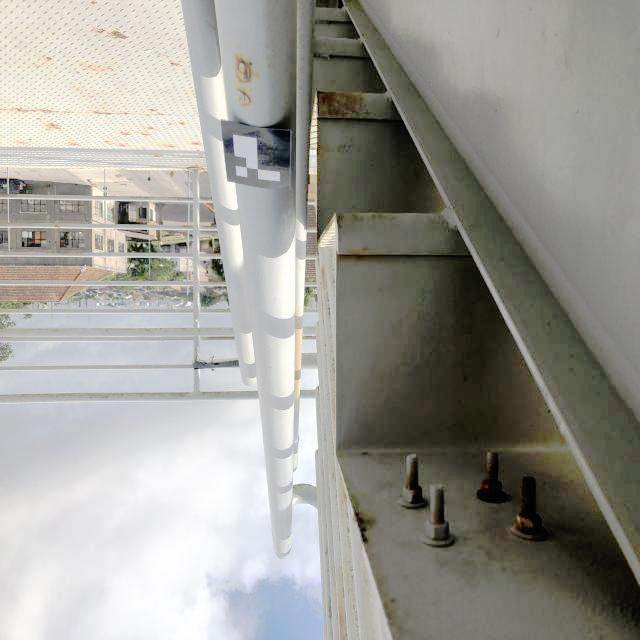Corrosion: (517, 477, 546, 535), (477, 457, 507, 502), (317, 92, 363, 116), (234, 51, 254, 84), (294, 324, 302, 399), (235, 87, 253, 108), (407, 471, 419, 490), (14, 108, 54, 113), (109, 30, 128, 40), (94, 111, 111, 115), (96, 28, 105, 34), (51, 123, 60, 129), (90, 0, 96, 5), (170, 63, 180, 66), (46, 57, 52, 61), (122, 132, 129, 135), (193, 142, 200, 145), (70, 143, 79, 145), (169, 145, 174, 148), (142, 133, 149, 135), (151, 109, 155, 112), (148, 127, 152, 130), (180, 122, 184, 125), (159, 113, 164, 115), (155, 155, 159, 157), (37, 118, 41, 119), (121, 145, 124, 146)
